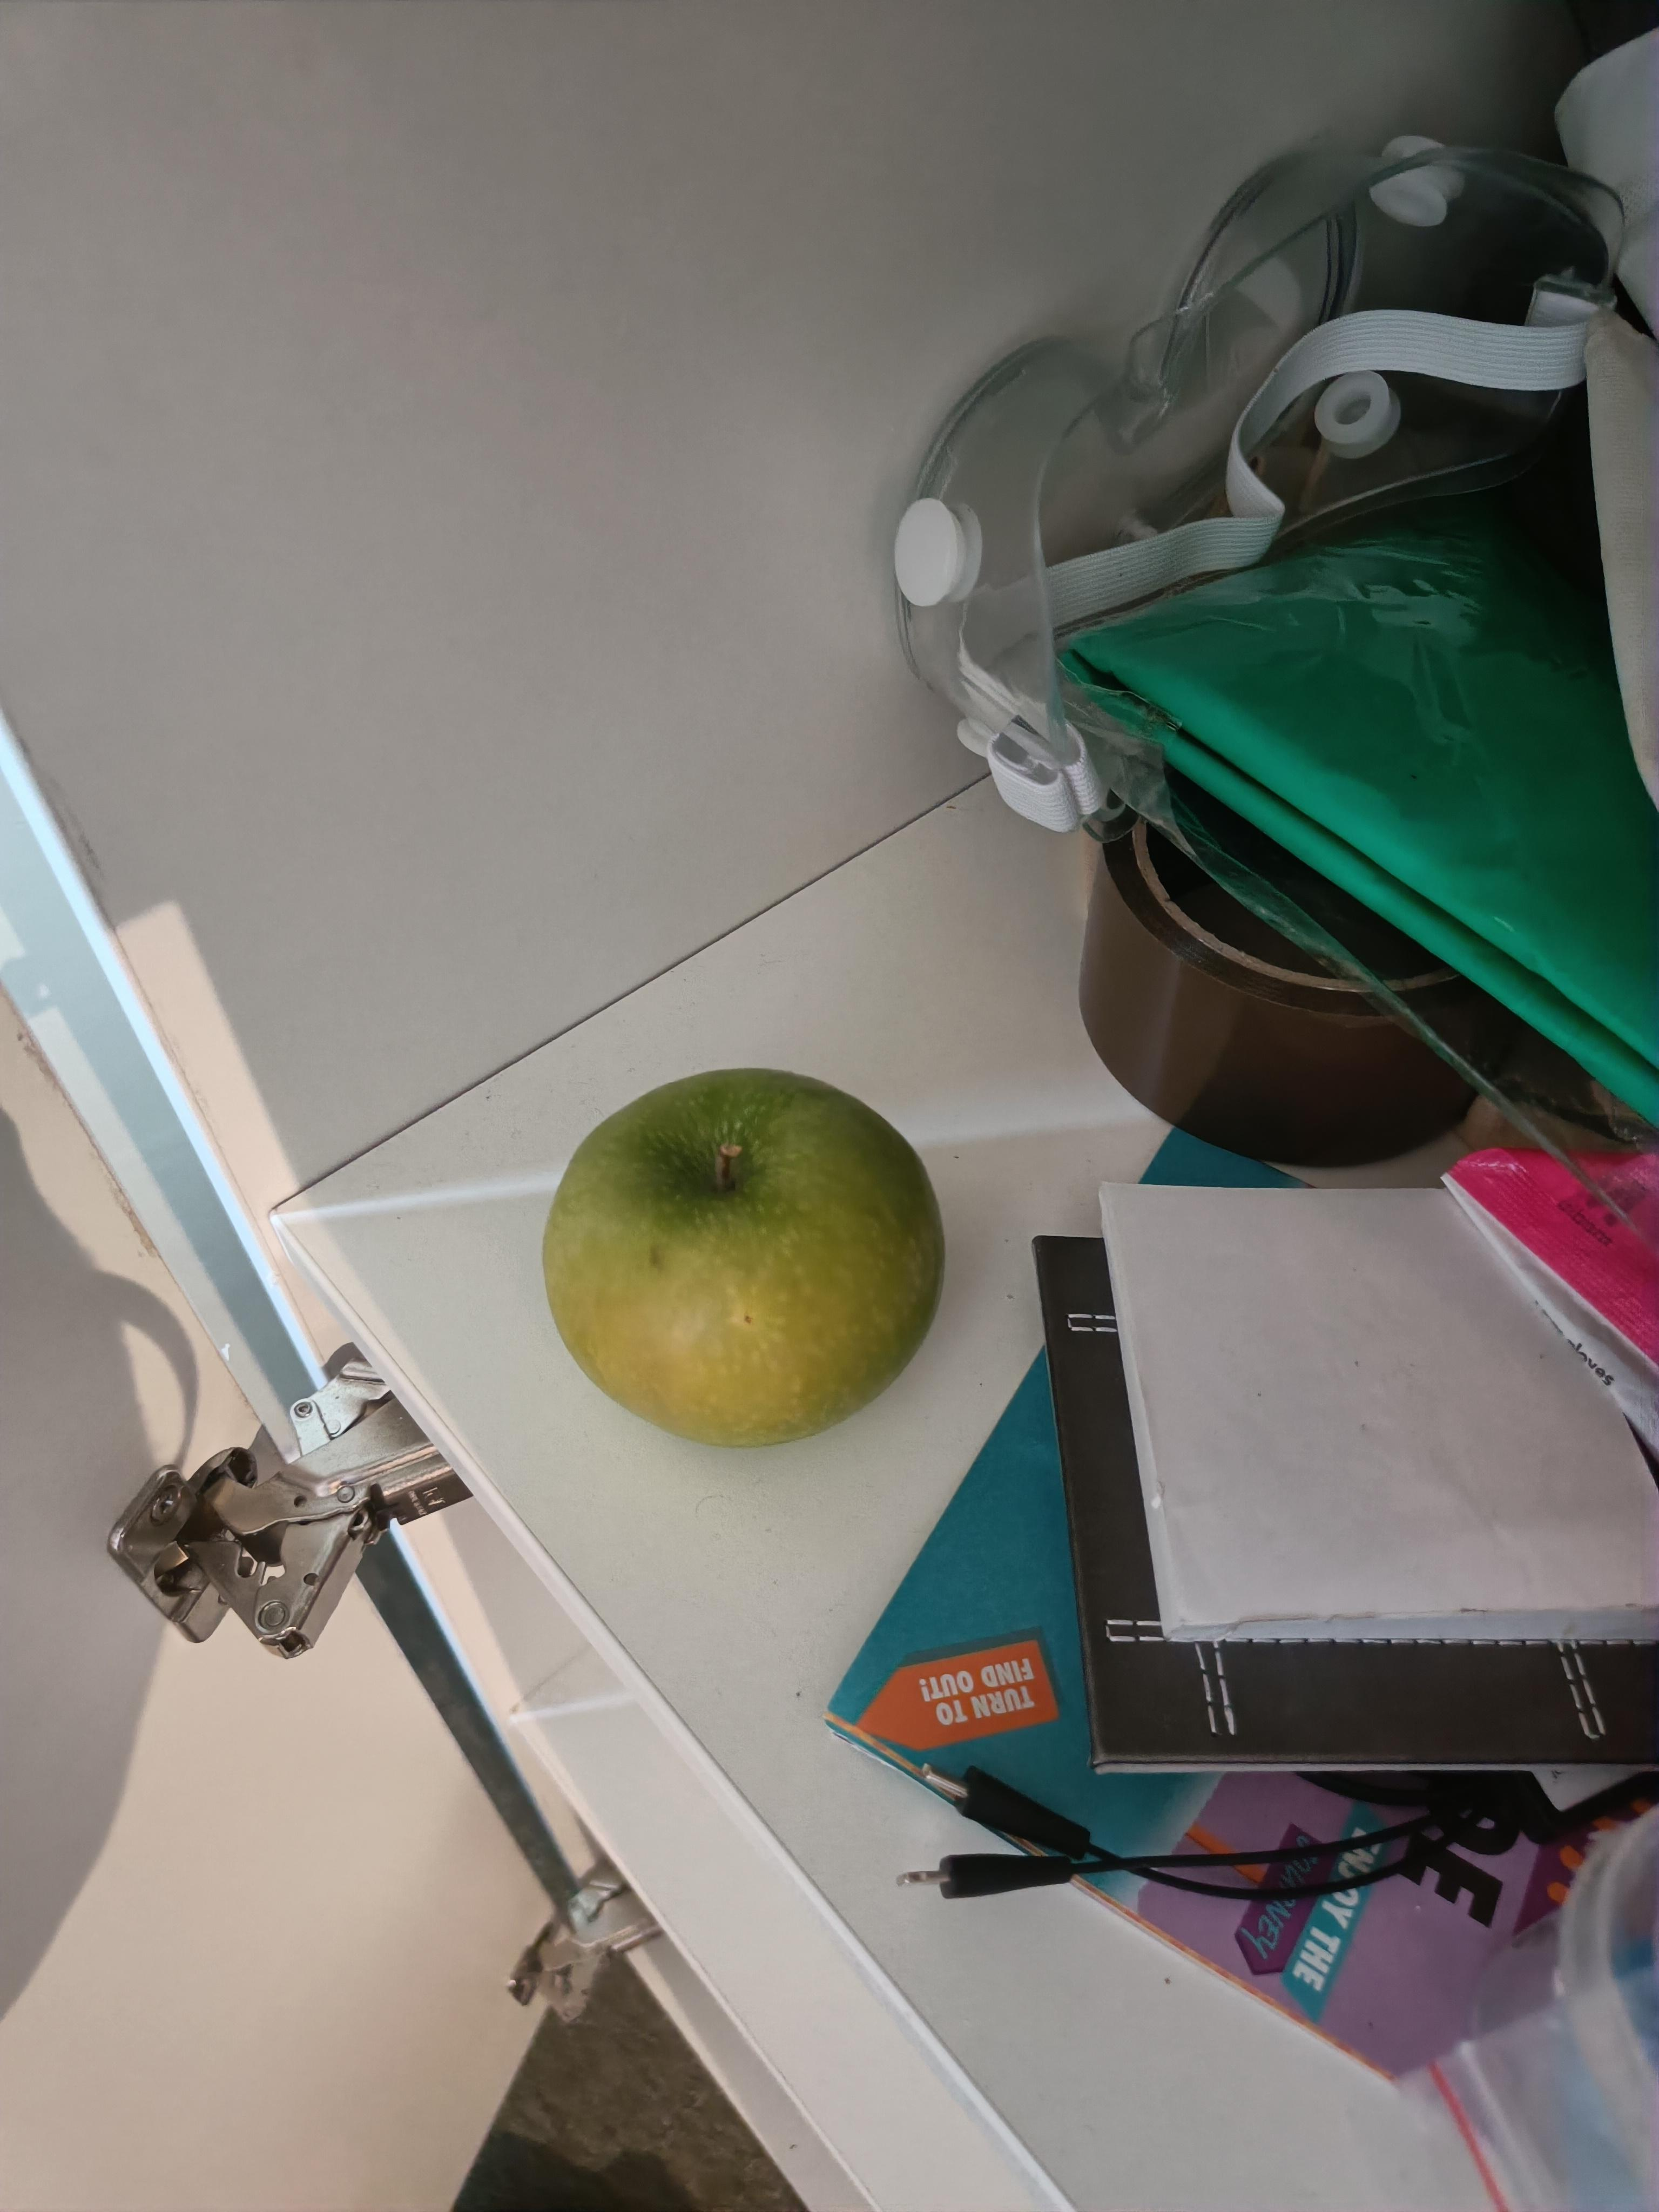Apple: (525, 1049, 978, 1482)
